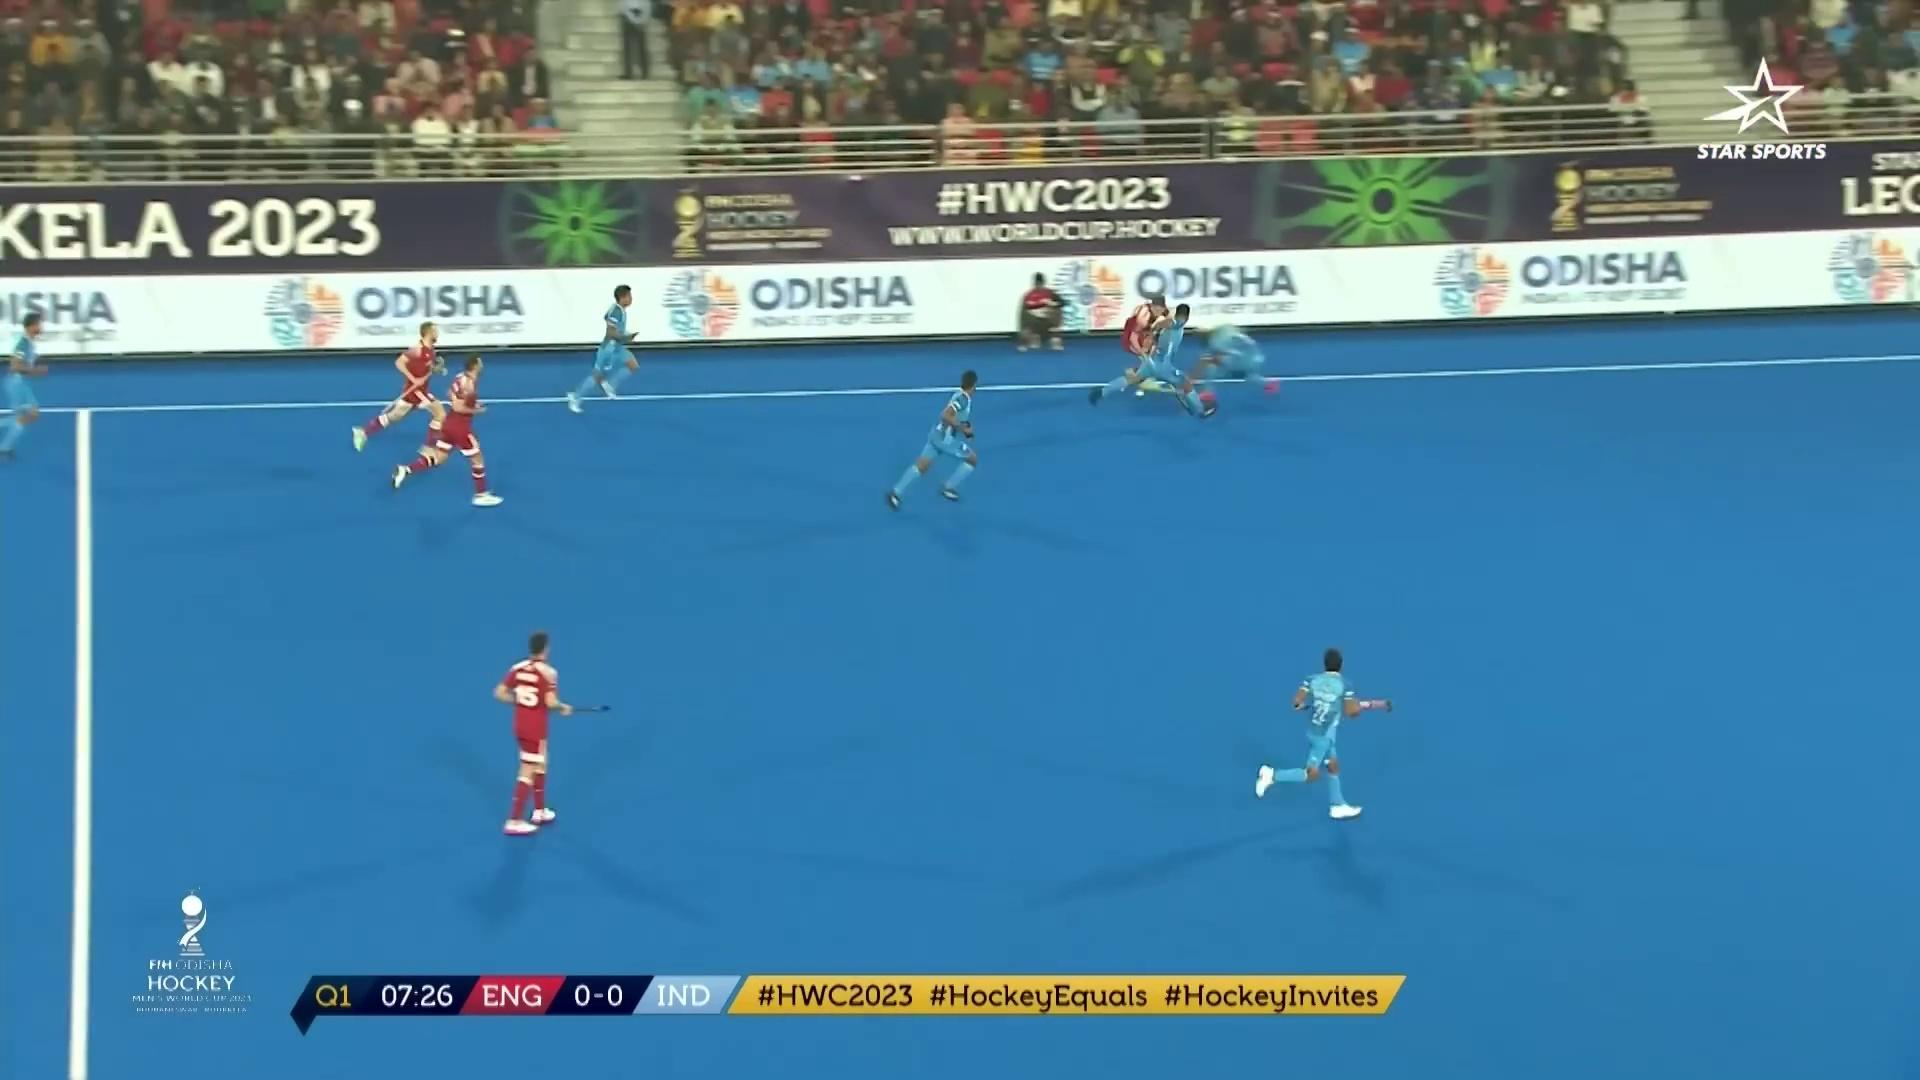ball: (1128, 384, 1149, 410)
